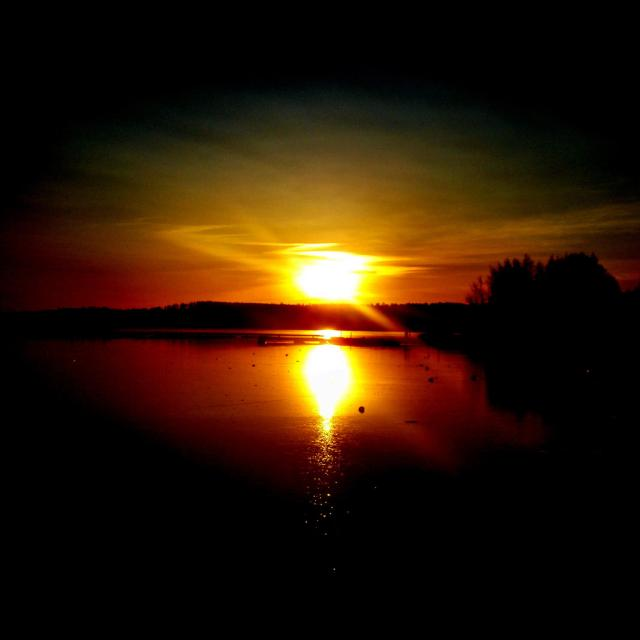no_fire: (217, 181, 476, 505)
